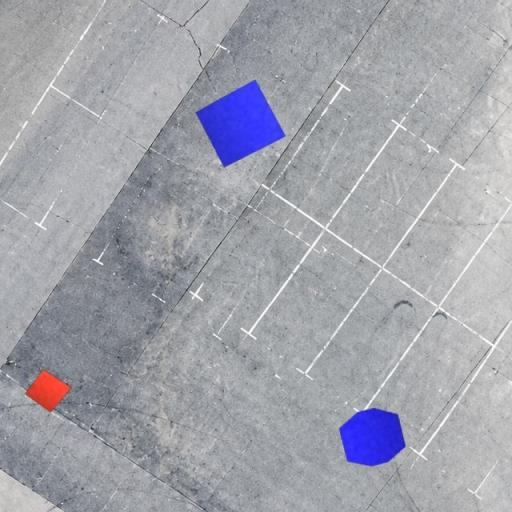BLUE_SQUARE: (196, 78, 286, 168)
RED_SQUARE: (24, 369, 72, 413)
